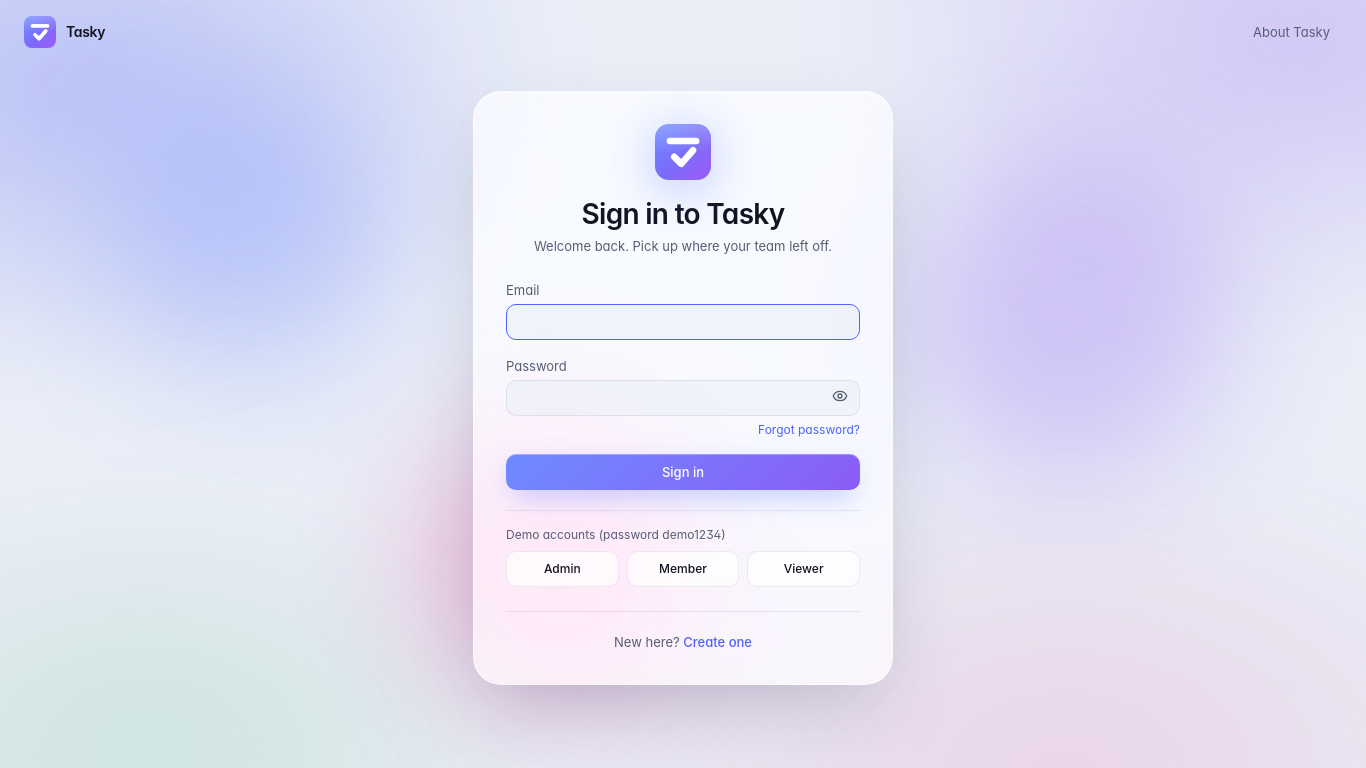
Scenario: authentication flow › logs in with a demo account and lands on the dashboard
Expected: the heading "Sign in to Tasky" is shown, 582,196 -> 784,232
Click the button "Admin" at (562, 569), box 506,551 -> 619,587
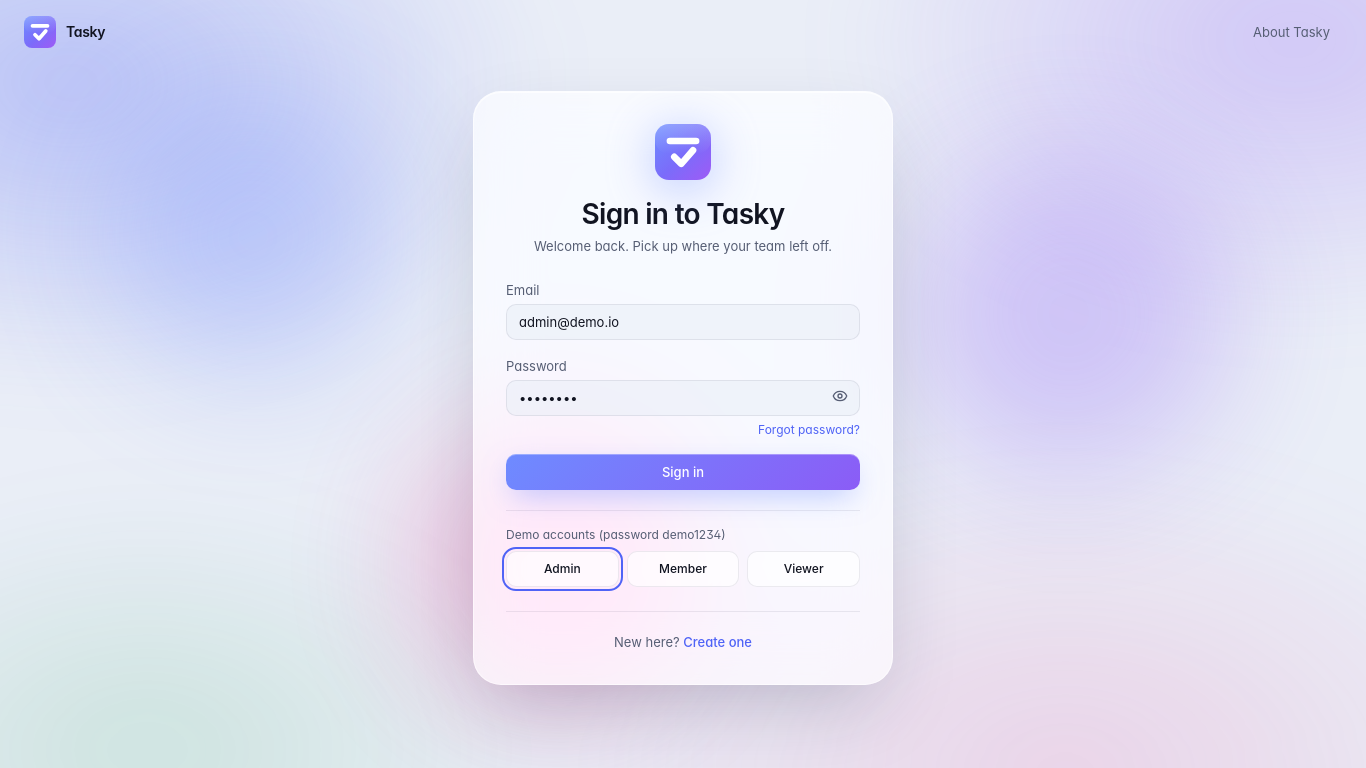
Expected: the field labelled "Email" holds "admin@demo.io", 506,304 -> 860,340
Click the button "Sign in" at (683, 472), box 506,454 -> 860,490
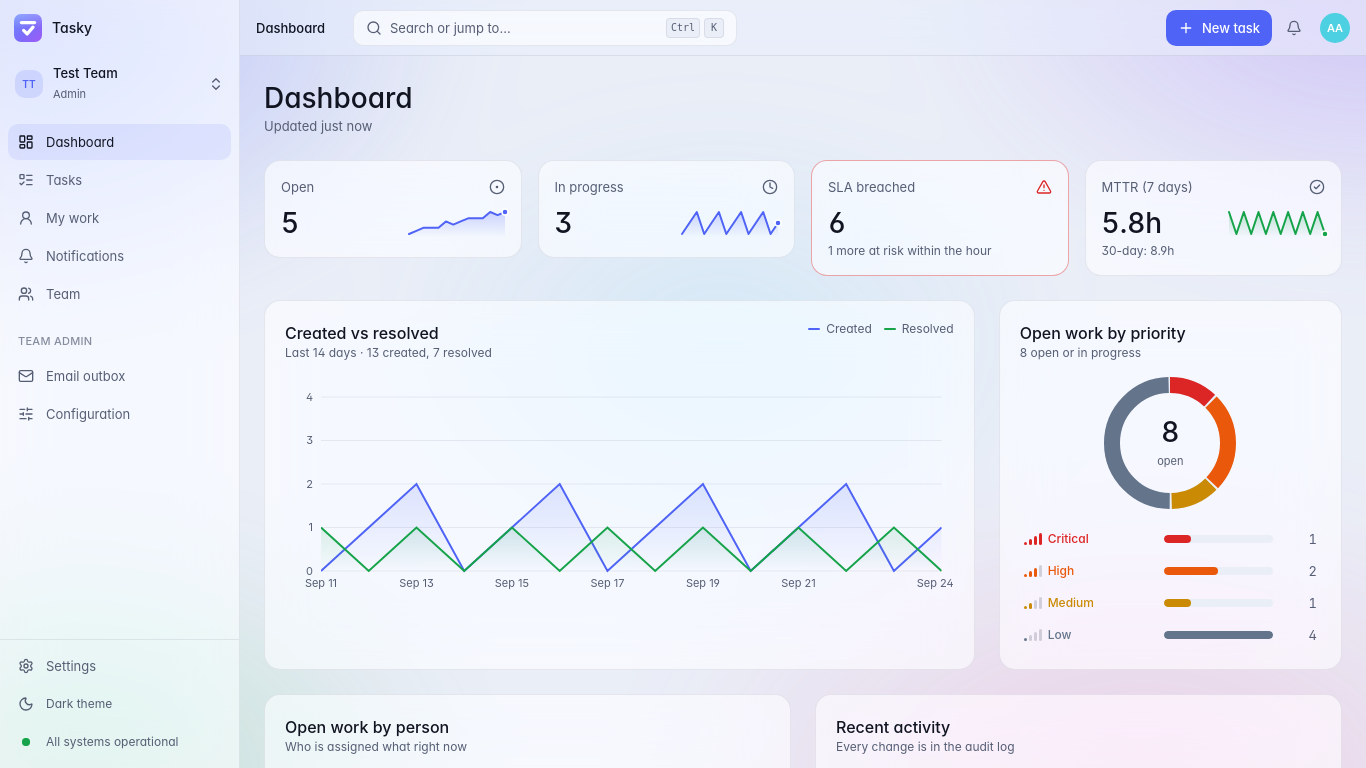
Expected: the heading "Dashboard" is shown, 264,80 -> 413,116
Expected: the text "SLA breached" is shown, 828,177 -> 1052,197
